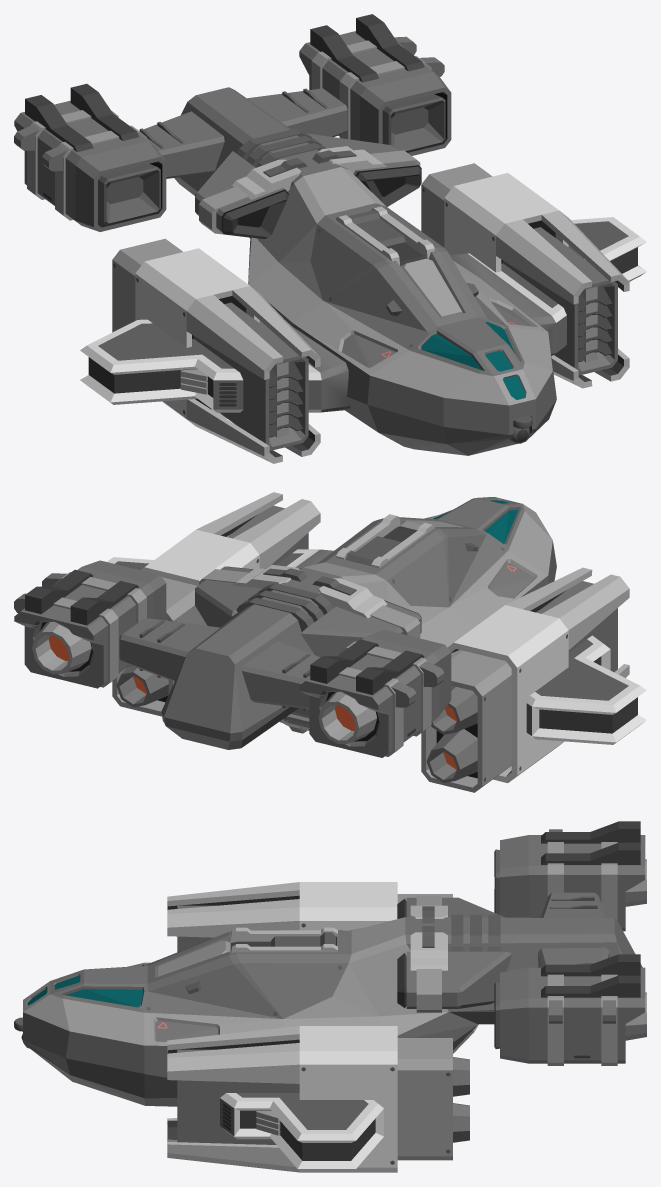
Rendered from starship_005.fbx.
3 renders of one model, top to bottom at view 1: azimuth 30°, elevation 25°; view 2: azimuth 150°, elevation 25°; view 3: azimuth 270°, elevation 25°, orthographic. The views are drawn at different scales.
Parts seen in each view (by area): view 1: starship_005; view 2: starship_005, starship_005.001; view 3: starship_005.
Boxes of the visible parts, x1,y1,x2,y2 form: starship_005: [14, 14, 646, 463]; starship_005: [14, 492, 646, 792]; starship_005.001: [280, 708, 309, 733]; starship_005: [14, 821, 646, 1172].
Bounding box in the file's own units: 1955 × 678 × 2096.
